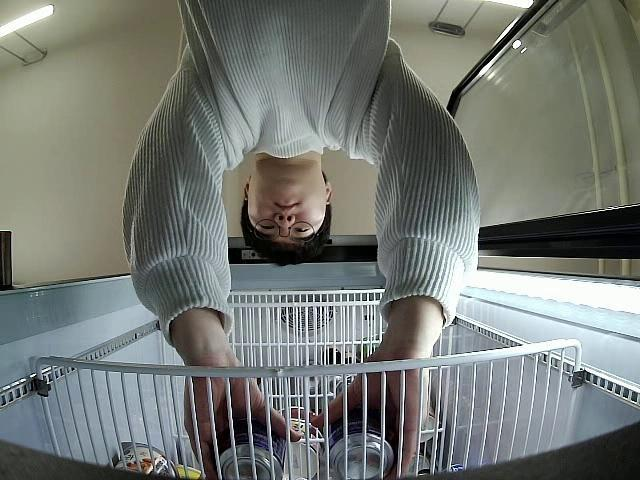14_welchsGrape: (320, 410, 394, 480), (214, 417, 286, 480)
